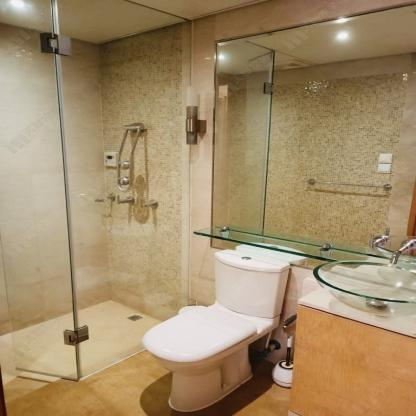Faucet: (368, 232, 414, 265)
Toilet: (138, 248, 291, 414)
Toilet Sink: (314, 261, 415, 317)
Water Cubicle: (0, 1, 193, 404)
